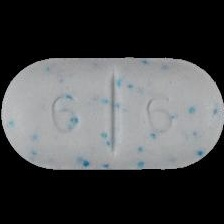57844-009: (0, 0, 224, 224)
